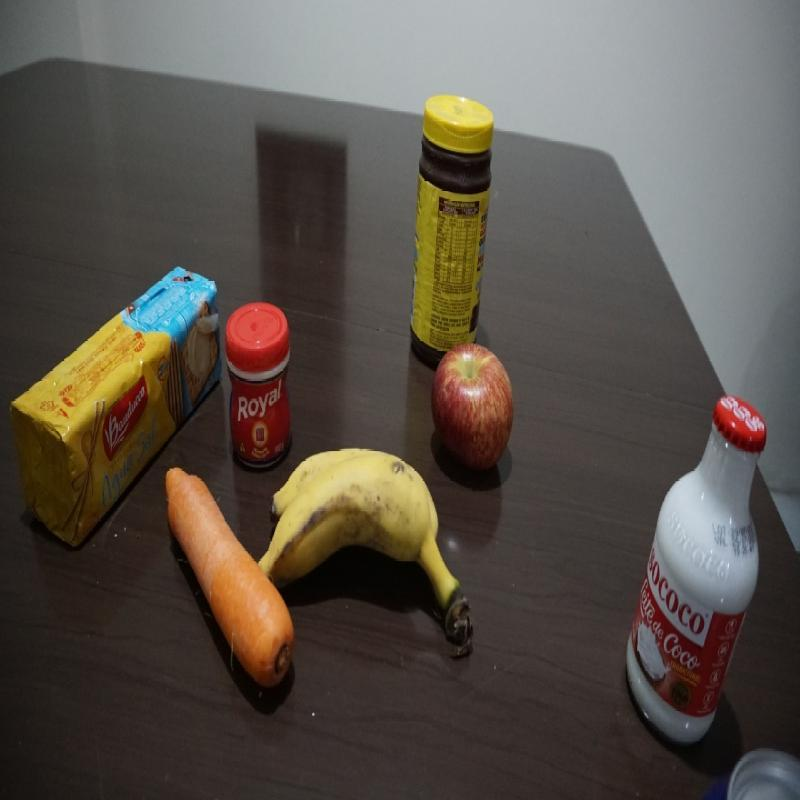Apple: (428, 340, 524, 465)
Banana: (278, 451, 474, 663)
Carrot: (159, 460, 258, 685)
Chocolate Powder: (419, 91, 494, 331)
Coconut Milk: (622, 372, 776, 738)
Cracker: (9, 262, 224, 458)
Yeast: (223, 306, 298, 465)
